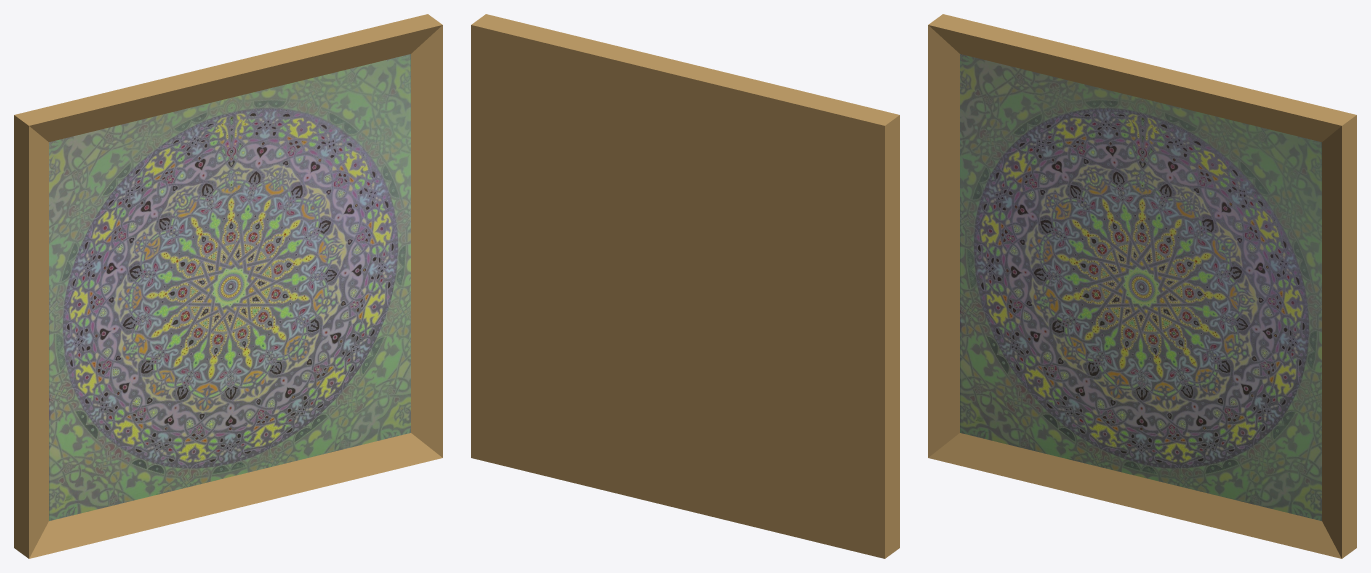
File: tridecagon-moon-star-tridecagon-sage-green-a2-natural-oak-v2.glb
The picture shows the model from 3 angles, left to right: view 1: azimuth 30°, elevation 25°; view 2: azimuth 150°, elevation 25°; view 3: azimuth 330°, elevation 25°; orthographic projection.
Visible parts, largest first — view 1: FramedPrint; view 2: FramedPrint; view 3: FramedPrint.
Part boxes in pixels (x1,y1,x2,y2): FramedPrint: (14,14,442,558); FramedPrint: (471,14,899,558); FramedPrint: (928,14,1356,558).
Bounding box in the file's own units: 0.48 × 0.48 × 0.03.
2 materials, 1 textured.
